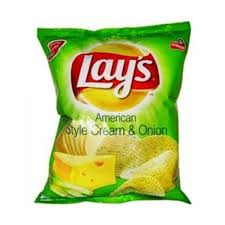lays-small: (35, 21, 192, 204)
